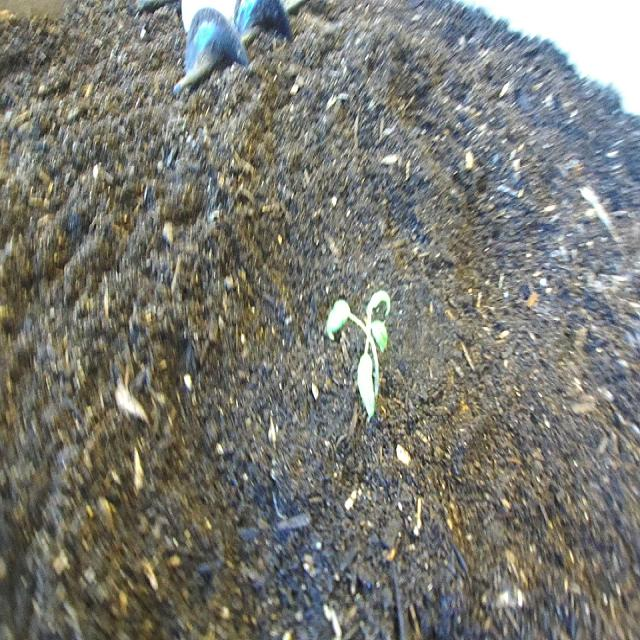Healthy: (324, 284, 396, 428)
